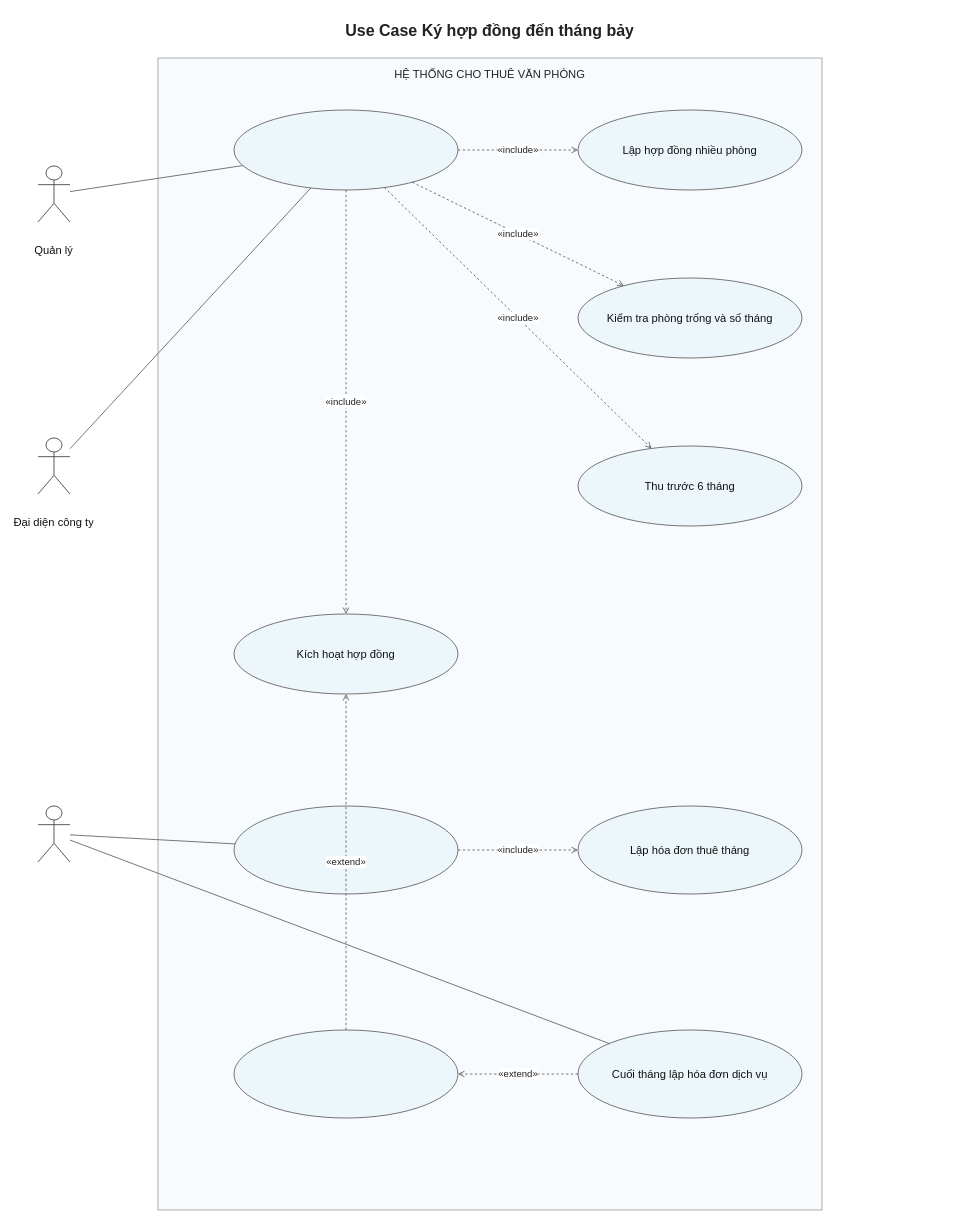
Image size: 967x1224. Some labels were removed from this diagram. Here are the shapes that lost their labels. From the top down, the box of each, then its label:
(233, 109, 458, 190): Ký hợp đồng
(37, 805, 70, 862): Kế toán
(233, 805, 458, 894): Thu tiền thuê tháng 7 trở đi [Đầu tháng]
(233, 1029, 458, 1118): Ghi nhận sử dụng dịch vụ [Phát sinh]
